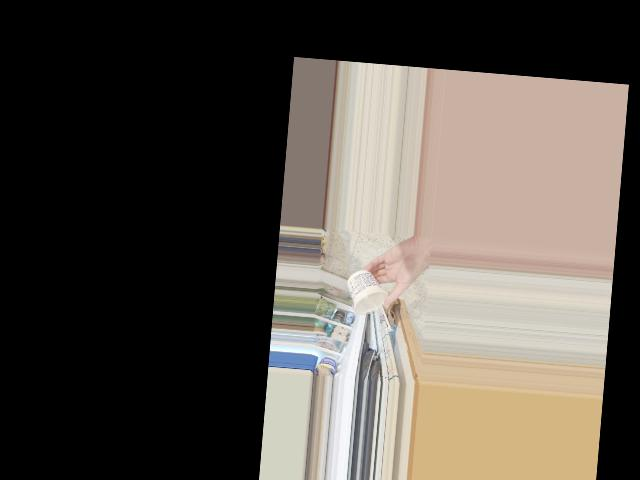cotage: (346, 272, 391, 316)
